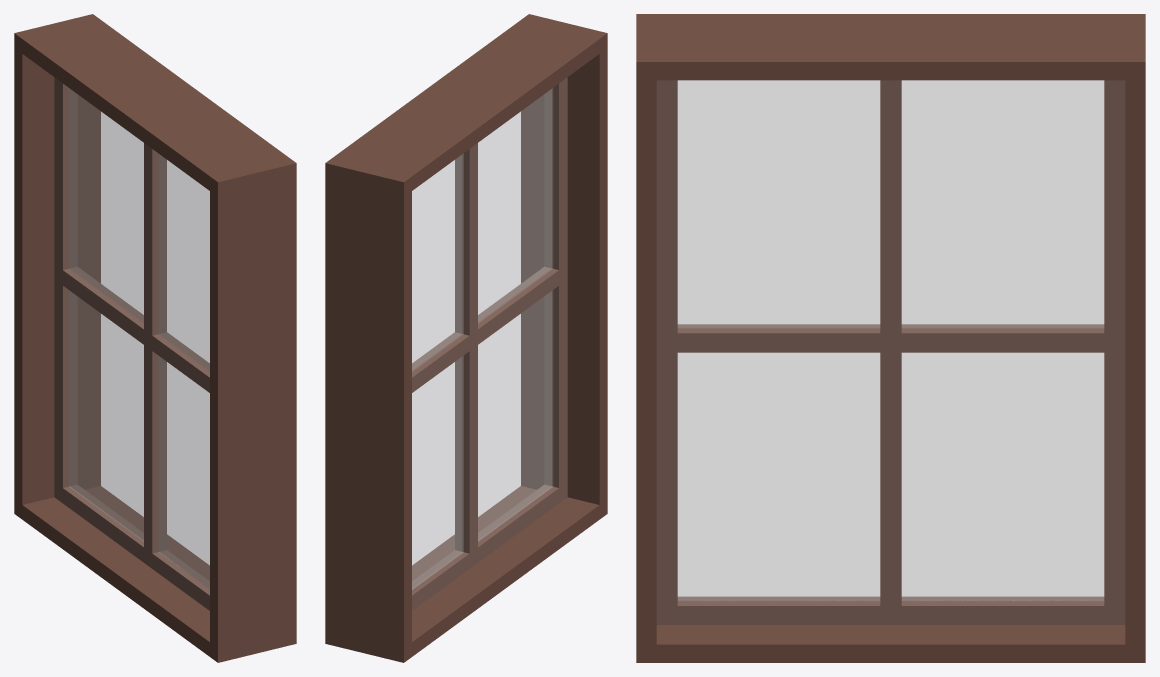
The model's file is Window01.fbx.
The picture shows the model from 3 angles, left to right: view 1: azimuth 30°, elevation 25°; view 2: azimuth 150°, elevation 25°; view 3: azimuth 270°, elevation 25°; orthographic projection. The views are drawn at different scales.
Parts seen in each view (by area): view 1: Wall04Window01; view 2: Wall04Window01; view 3: Wall04Window01.
Part boxes in pixels (bbox=[...]): Wall04Window01: bbox=[14, 14, 296, 662]; Wall04Window01: bbox=[325, 14, 607, 662]; Wall04Window01: bbox=[636, 14, 1145, 662].
Bounding box in the file's own units: 0.2672 × 1.2 × 1.56.
